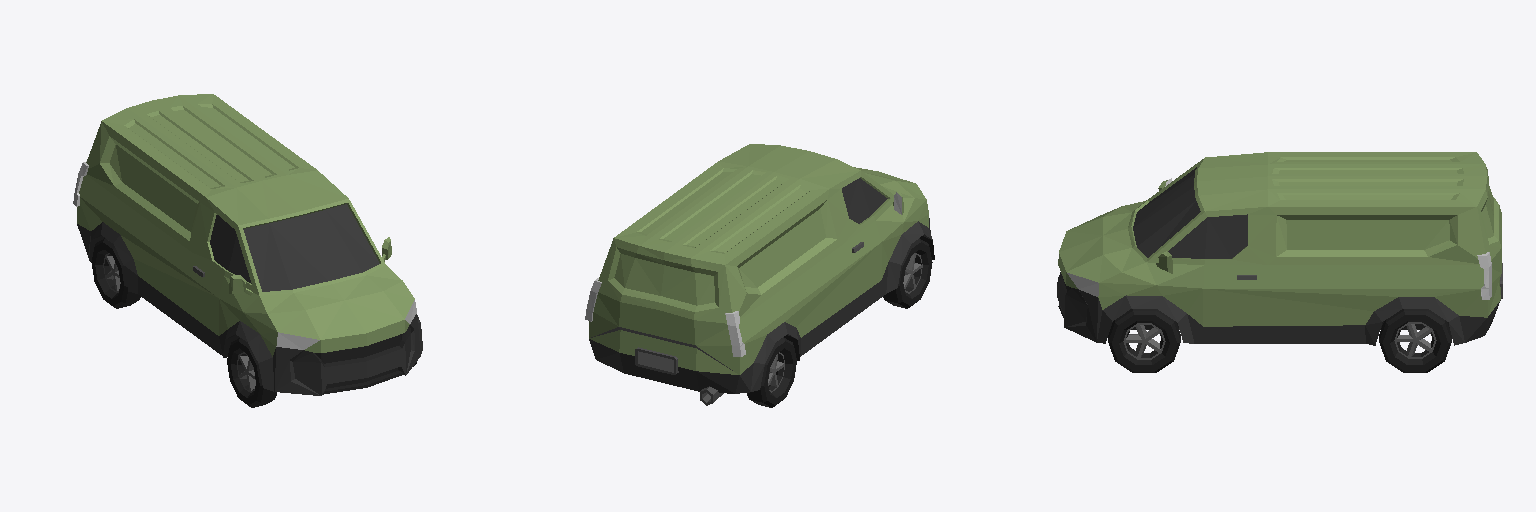
3 renders of one model, left to right at view 1: azimuth 30°, elevation 25°; view 2: azimuth 150°, elevation 25°; view 3: azimuth 270°, elevation 25°, orthographic.
Parts seen in each view (by area): view 1: van, wheel1.001, wheel1.002; view 2: van, wheel1.002, wheel1.001; view 3: van, wheel1.005, wheel1.006.
Part boxes in pixels (x1,y1,x2,y2): van: (73,94,422,395); wheel1.001: (227,338,276,407); wheel1.002: (91,238,140,308); van: (585,144,934,405); wheel1.002: (747,337,796,407); wheel1.001: (883,238,932,308); van: (1057,152,1502,345); wheel1.005: (1108,309,1180,372); wheel1.006: (1379,309,1451,372).
Bounding box in the file's own units: 2.12 × 1.96 × 4.98.
4 materials, 1 textured.